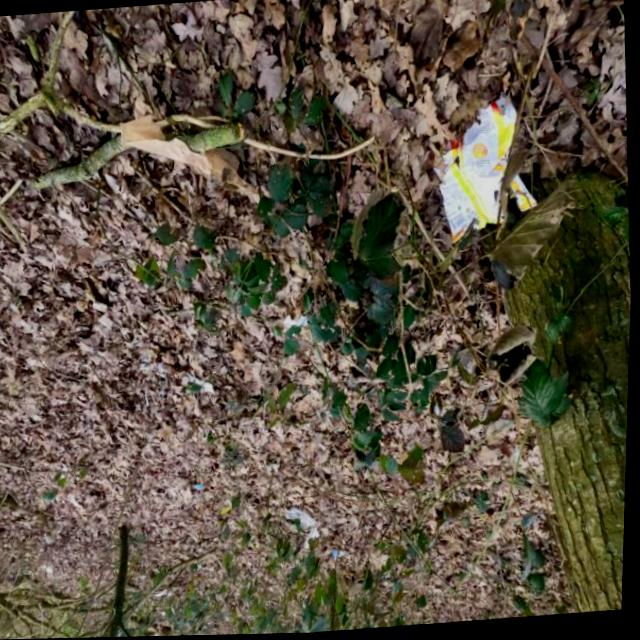Paper: (118, 107, 263, 216)
Plastic: (427, 89, 544, 247)
